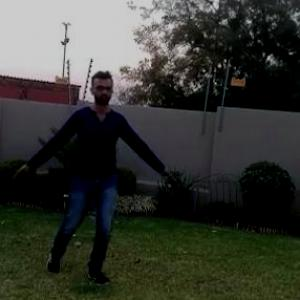land: (31, 86, 149, 248)
